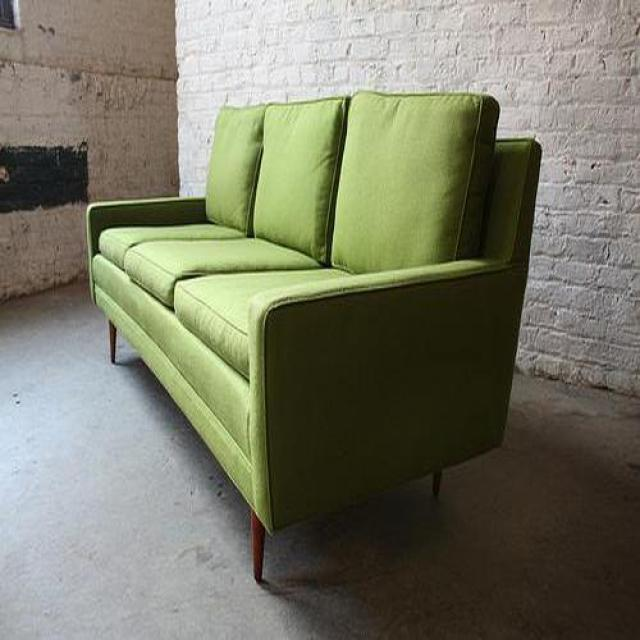sofa: (87, 91, 544, 585)
